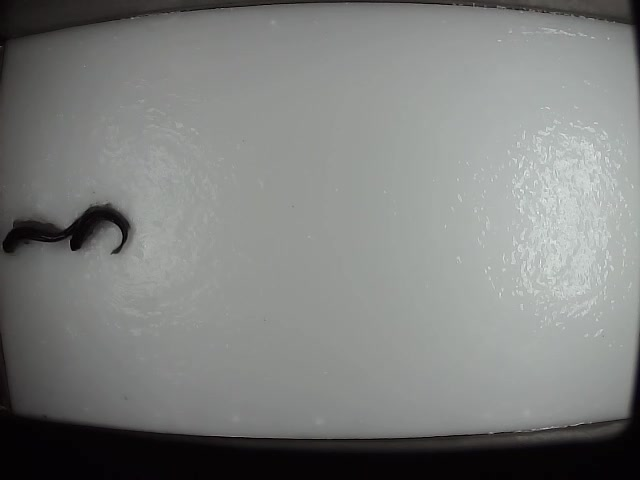fish: (1, 209, 86, 254), (63, 203, 131, 256)
